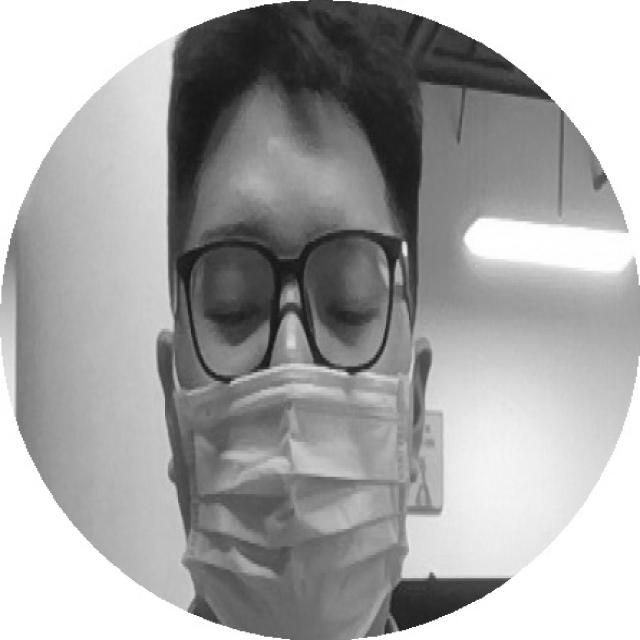fake: (146, 357, 451, 640)
real: (175, 212, 410, 342)
